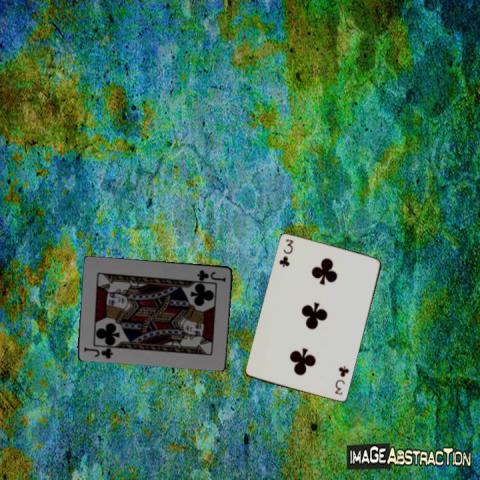3c: (332, 362, 351, 396), (276, 236, 295, 269)
Jc: (81, 344, 115, 360), (195, 267, 227, 282)
